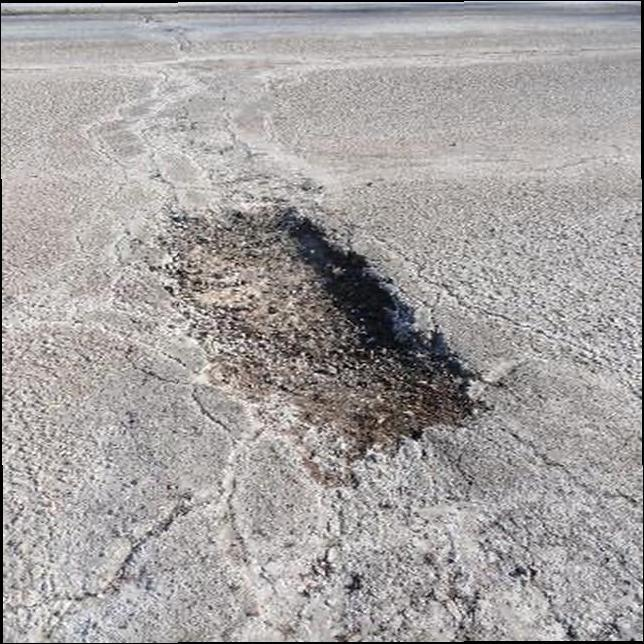Lubang: (158, 203, 474, 474)
